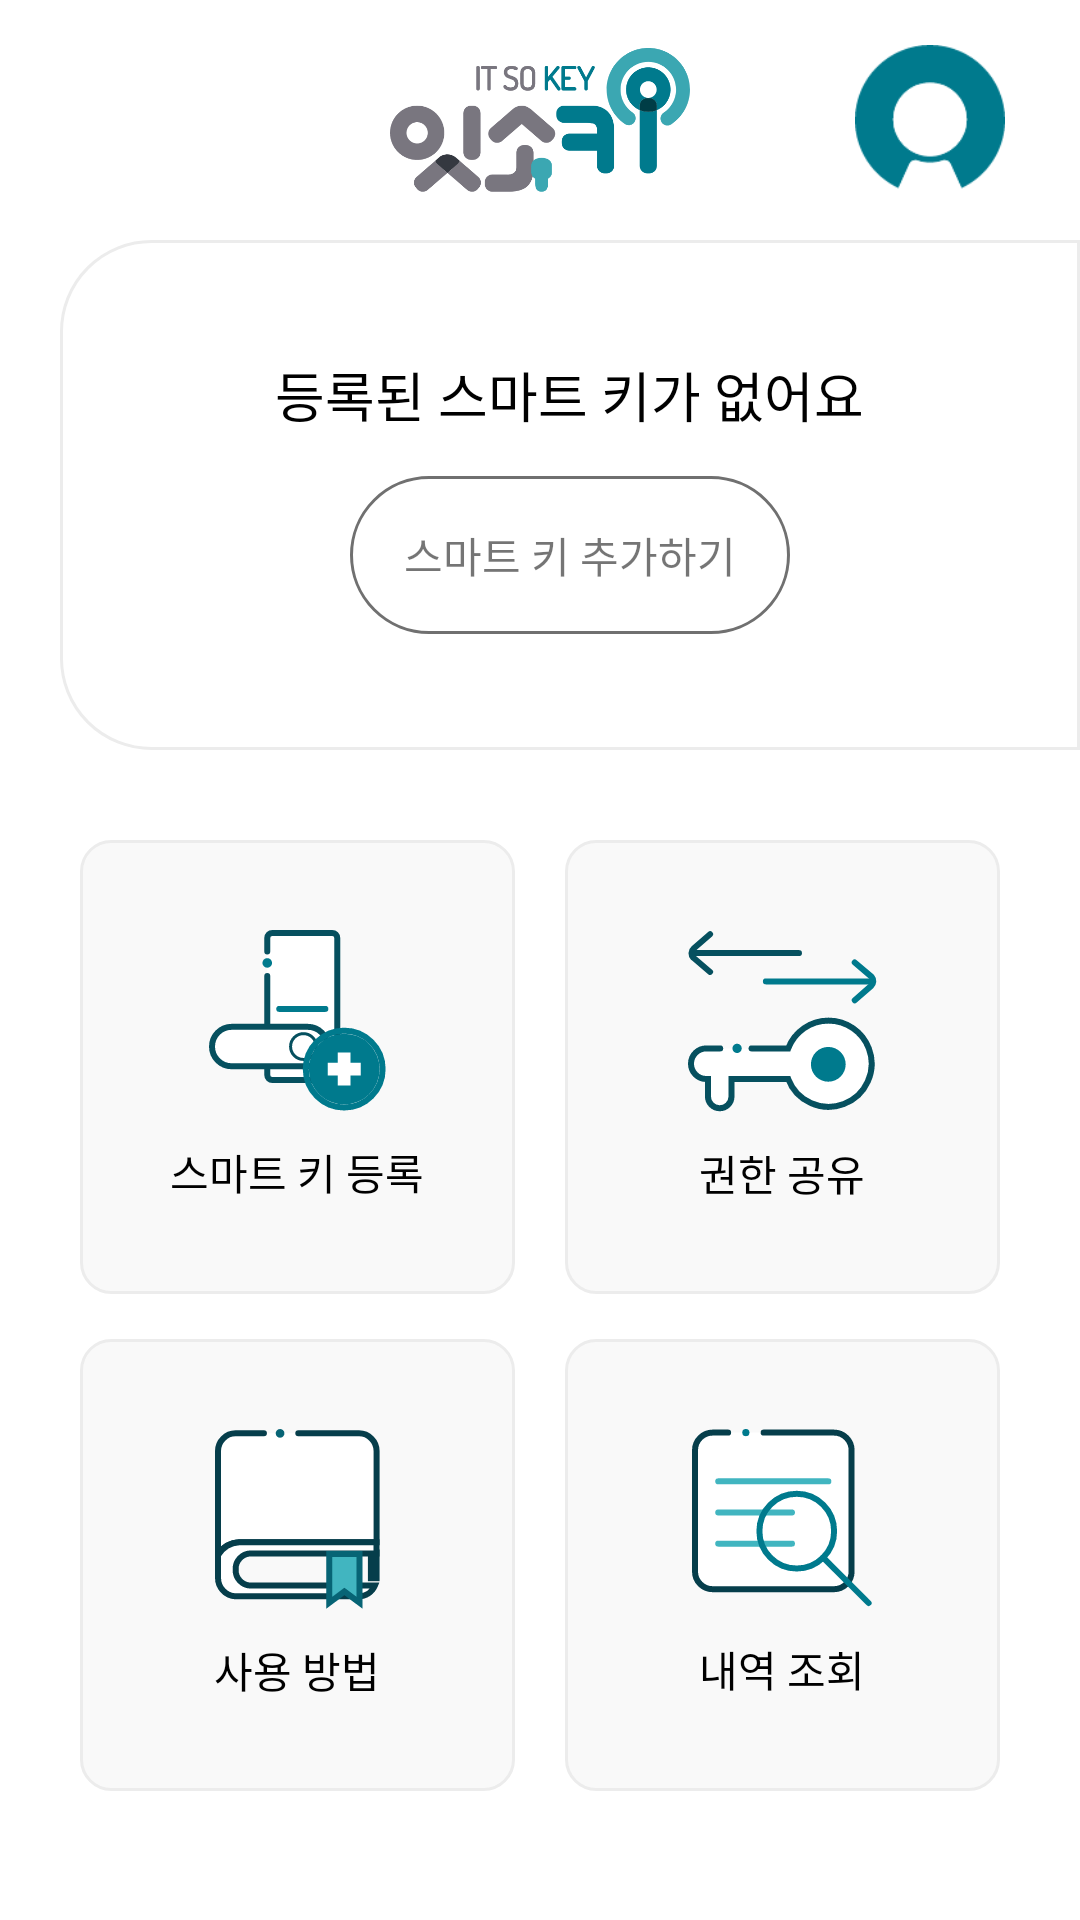

Where to tap for icons on this 1080*1920 app screen, as (x,y):
profile: (930,117)
